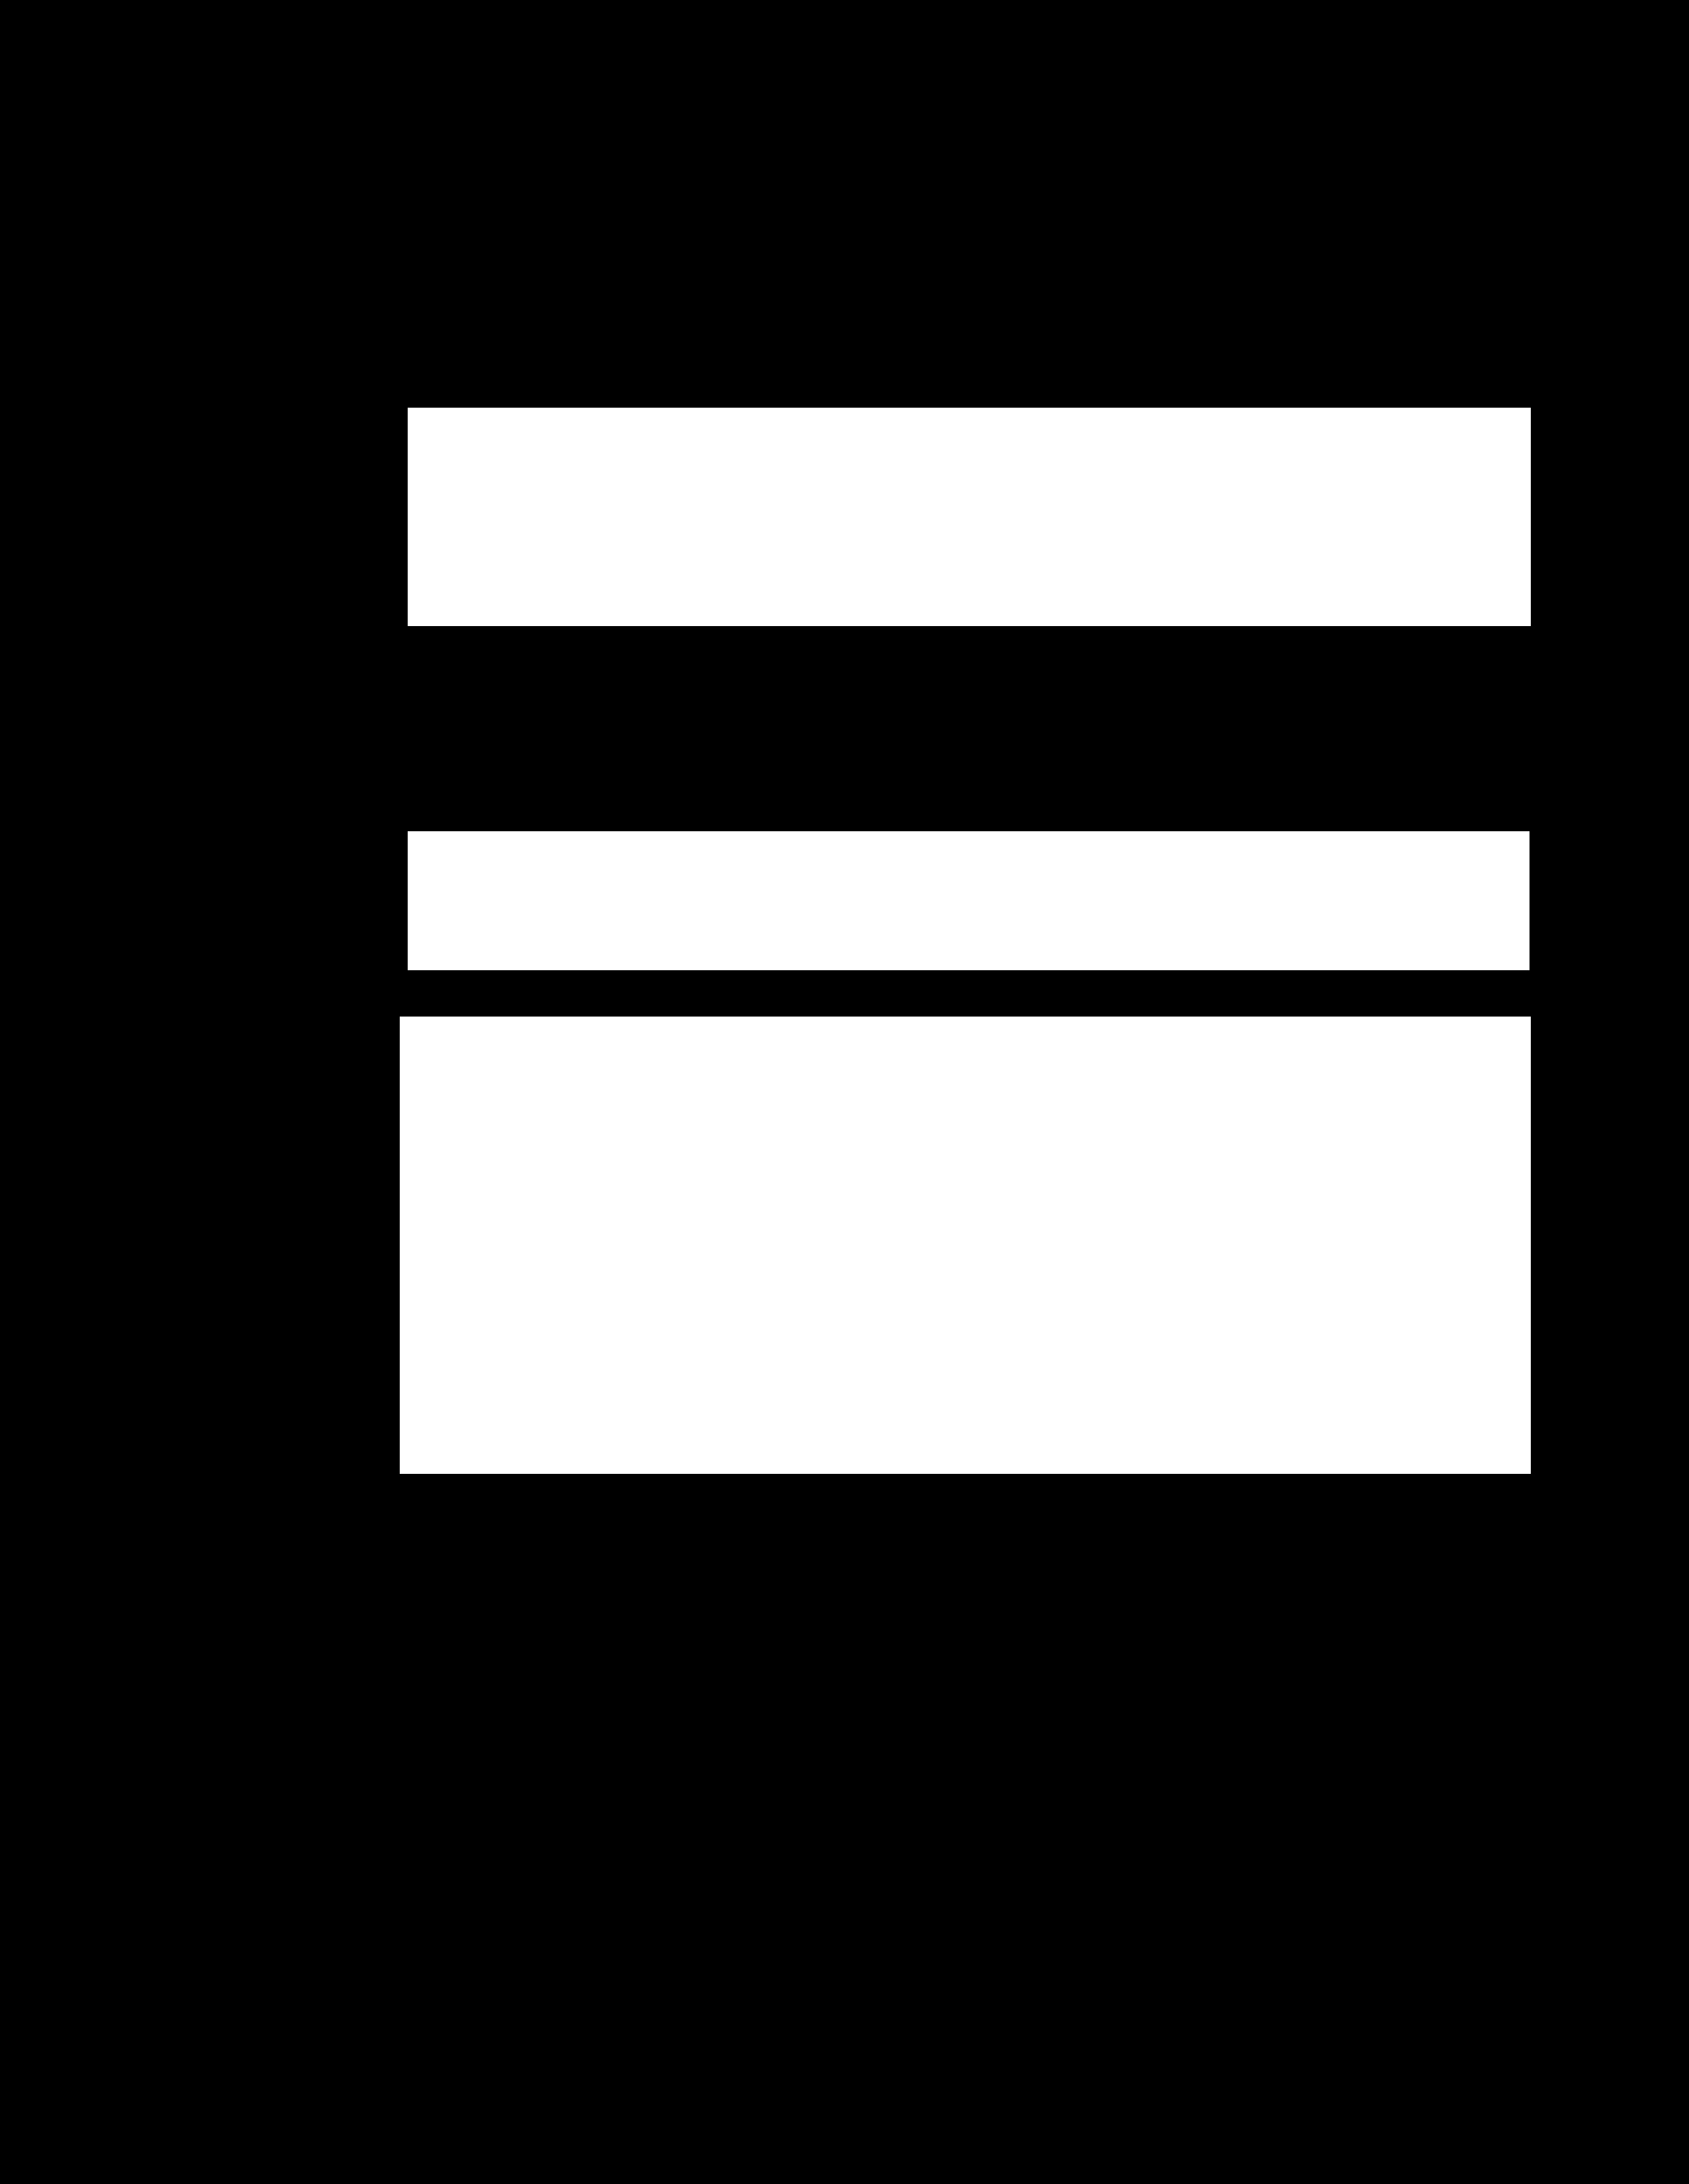table: (401, 1016, 1529, 1473), (408, 408, 1529, 626), (408, 831, 1529, 970)
